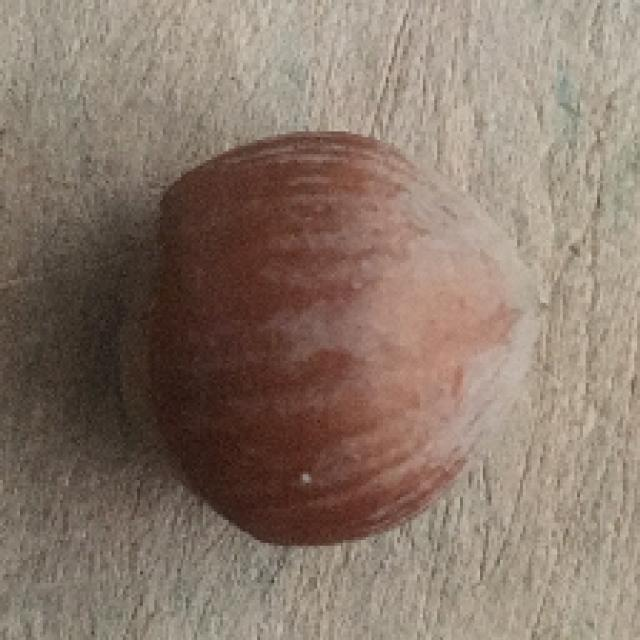qualityHazelnut: (119, 128, 549, 555)
